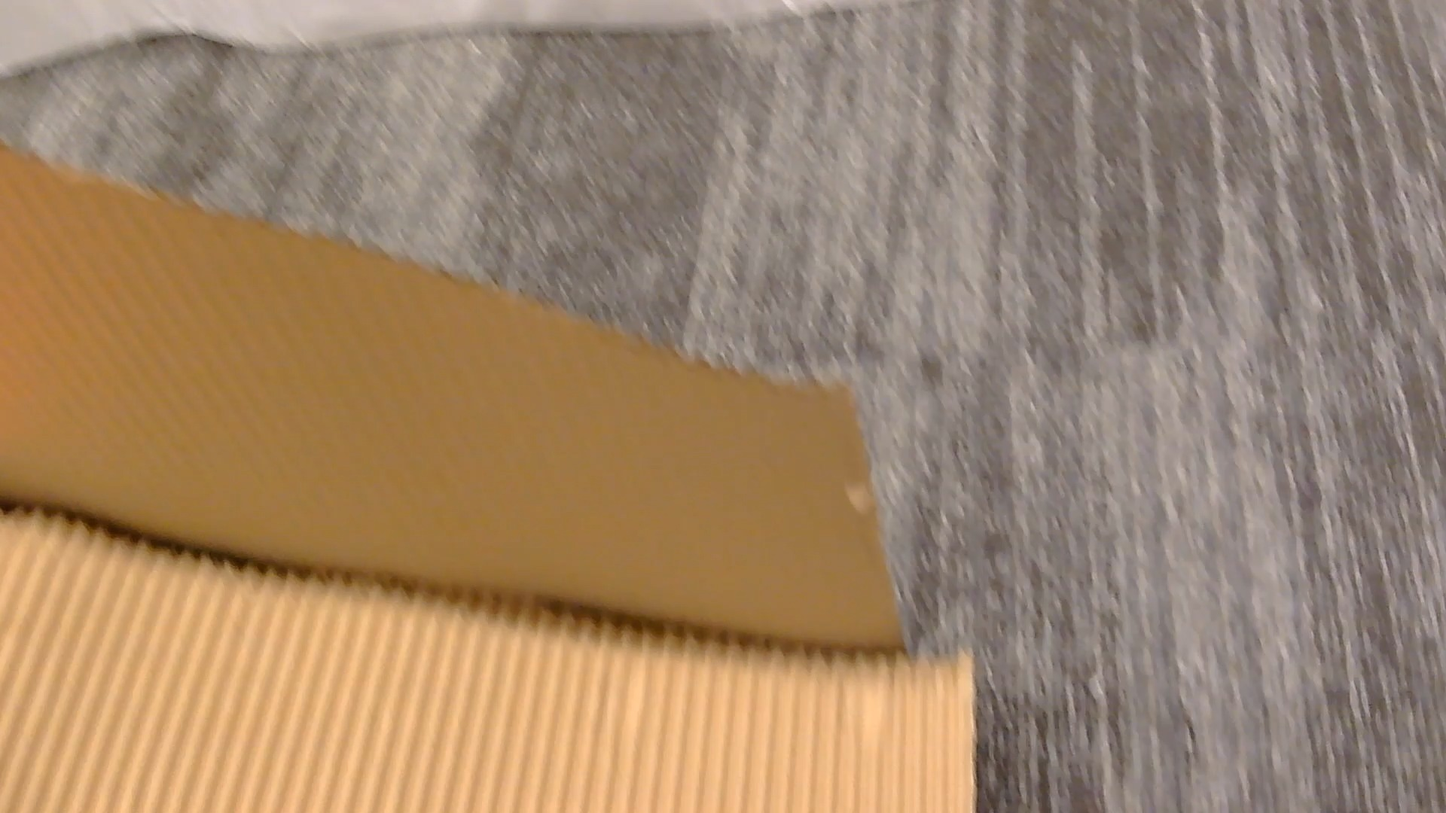Ramp: (0, 147, 975, 812)
